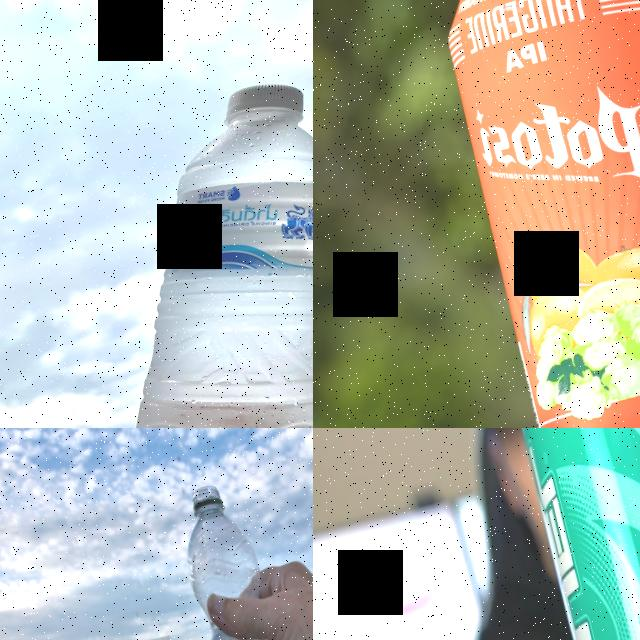bottle: (1, 62, 313, 428), (170, 483, 313, 640)
can: (422, 0, 640, 428), (491, 428, 640, 640)
